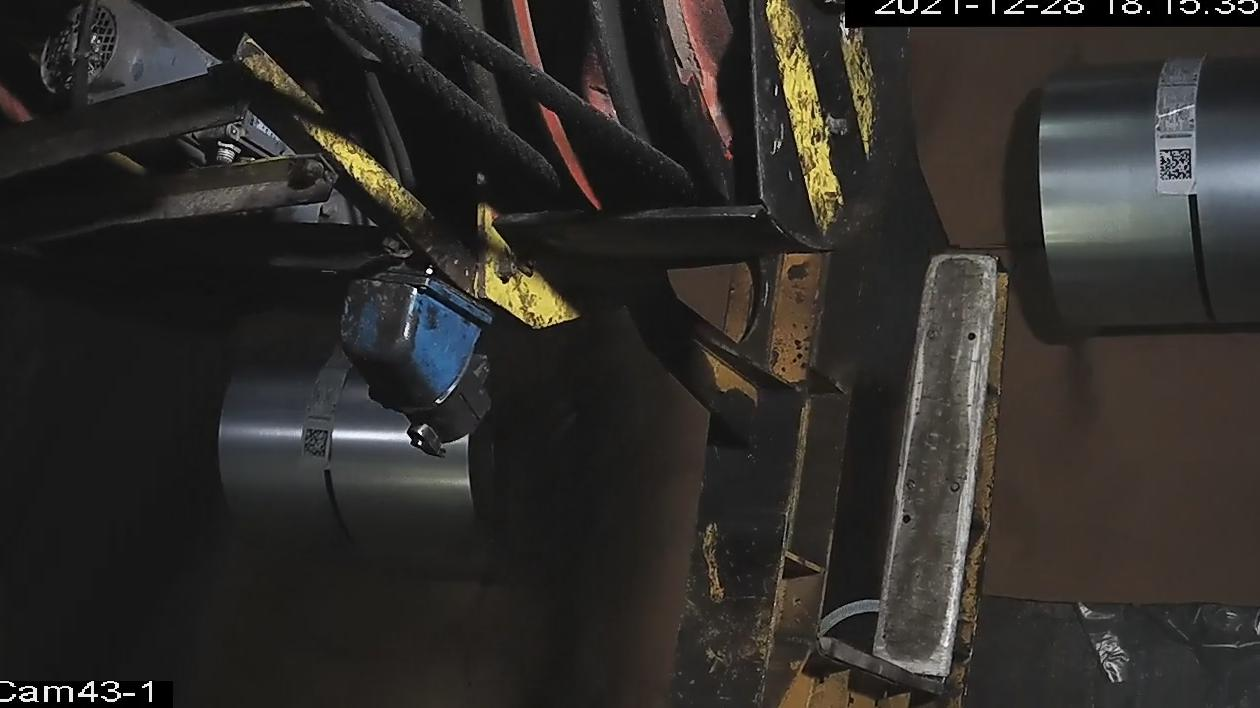data matrix: (1157, 147, 1194, 184), (301, 426, 332, 461)
